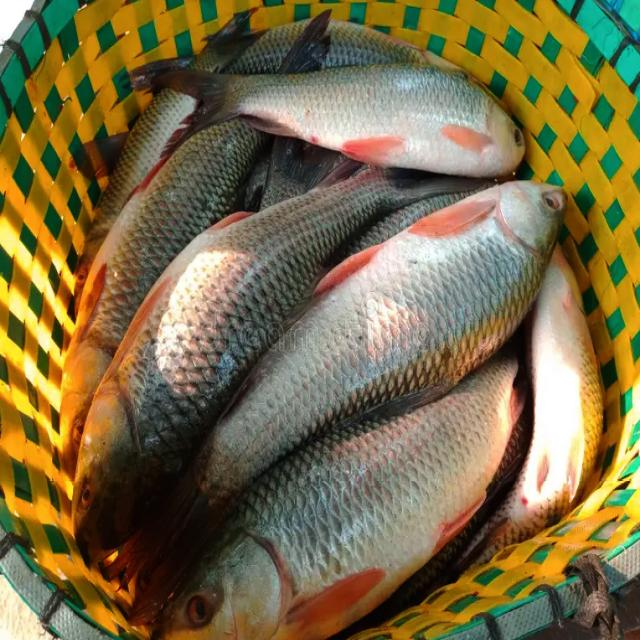Rohu: (128, 189, 569, 616), (74, 164, 490, 566)
